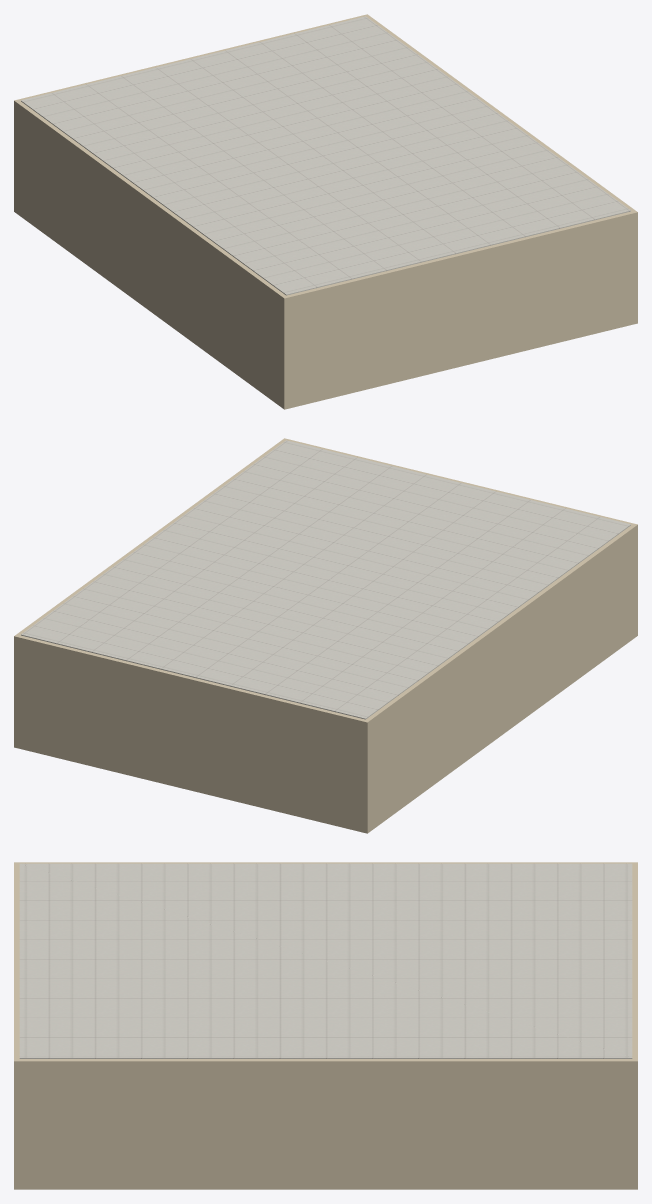
Rendered from class.glb.
3 renders of one model, top to bottom at view 1: azimuth 30°, elevation 25°; view 2: azimuth 150°, elevation 25°; view 3: azimuth 270°, elevation 25°, orthographic. The views are drawn at different scales.
Visible parts, largest first — view 1: Classroom; view 2: Classroom; view 3: Classroom.
Part boxes in pixels (box(x1,y1,x2,y2)): Classroom: box(14, 14, 637, 409); Classroom: box(14, 438, 637, 833); Classroom: box(14, 862, 637, 1189).
Bounding box in the file's own units: 16.3 × 5.27 × 21.6.
Materials: 28 (3 with a texture image).
